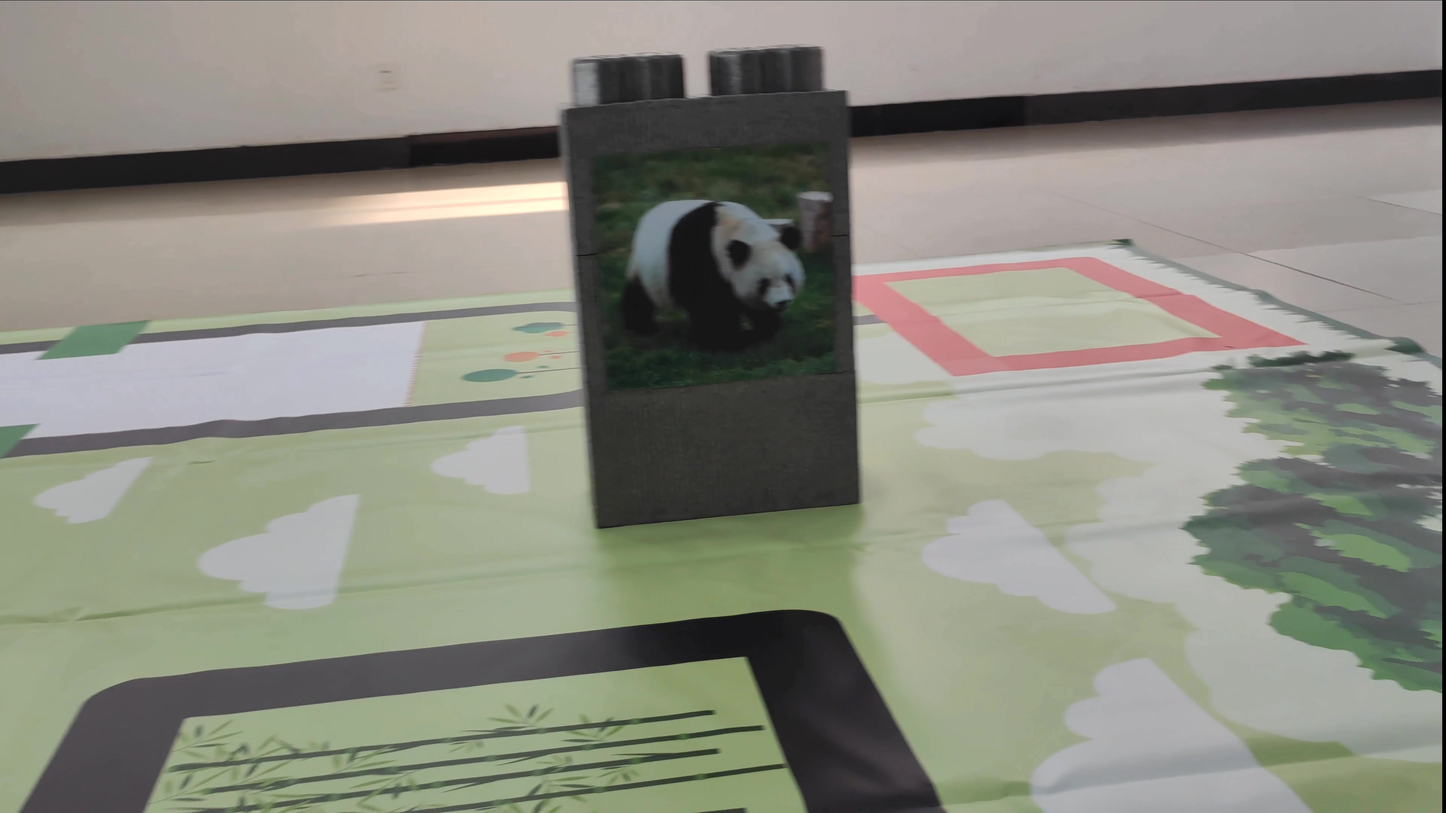panda: (605, 187, 818, 356)
